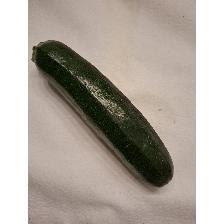Zucchini: (29, 36, 176, 190)
